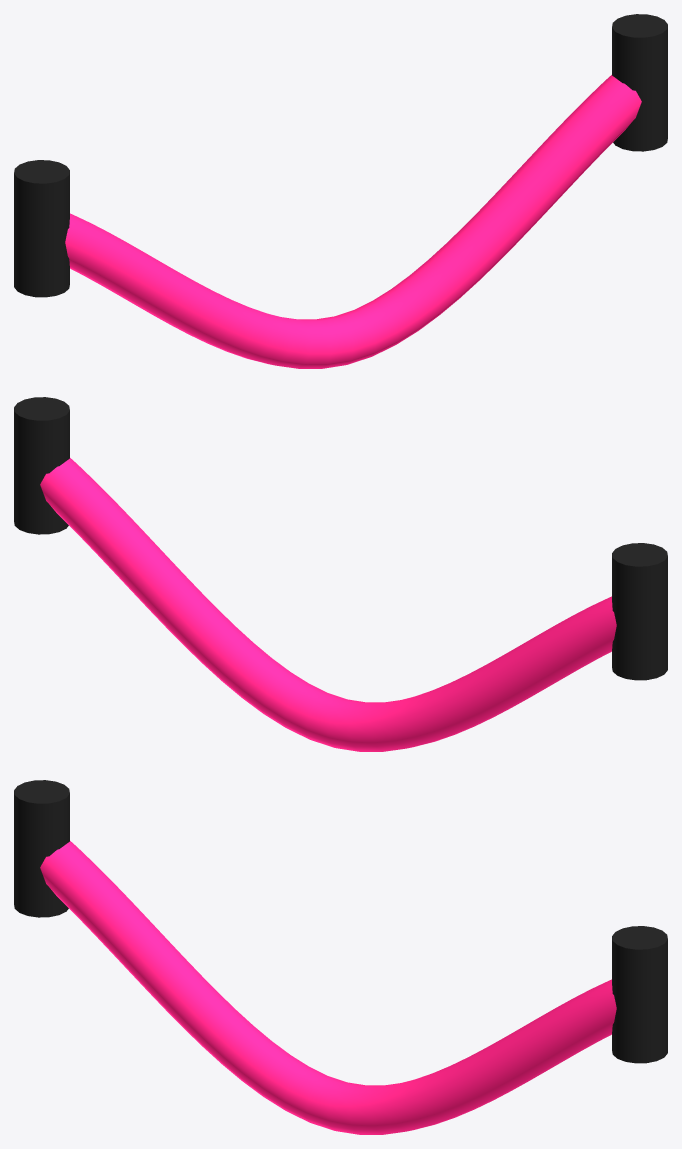
The model's file is resistance_band.glb.
3 renders of one model, top to bottom at view 1: azimuth 30°, elevation 25°; view 2: azimuth 150°, elevation 25°; view 3: azimuth 330°, elevation 25°, orthographic.
Visible parts, largest first — view 1: model_resistance_band; view 2: model_resistance_band; view 3: model_resistance_band.
Part boxes in pixels (bbox=[...]): model_resistance_band: bbox=[14, 14, 667, 368]; model_resistance_band: bbox=[14, 397, 667, 751]; model_resistance_band: bbox=[14, 780, 667, 1134].
Size of the model in its own units: 4.76 by 1.86 by 0.36.
